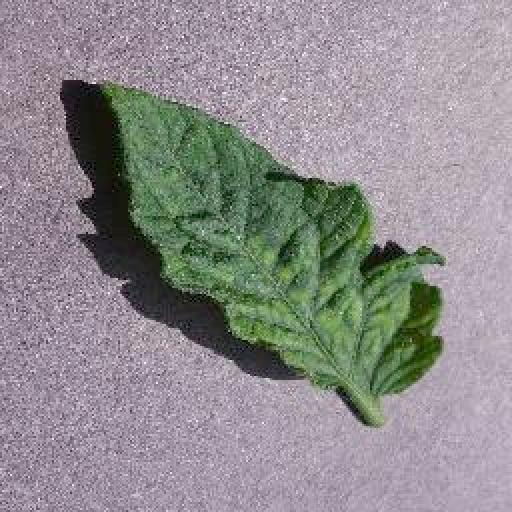Mosaic Virus: (98, 76, 450, 402)
